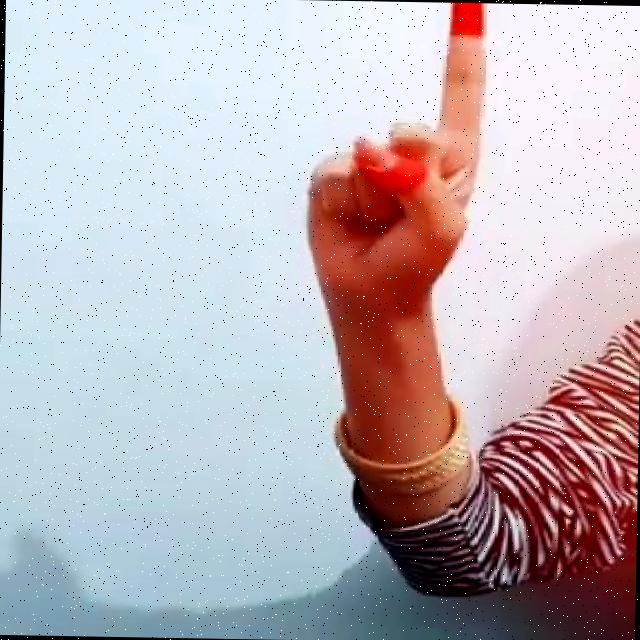Suchi: (270, 0, 517, 329)
bangle: (295, 391, 499, 516)
